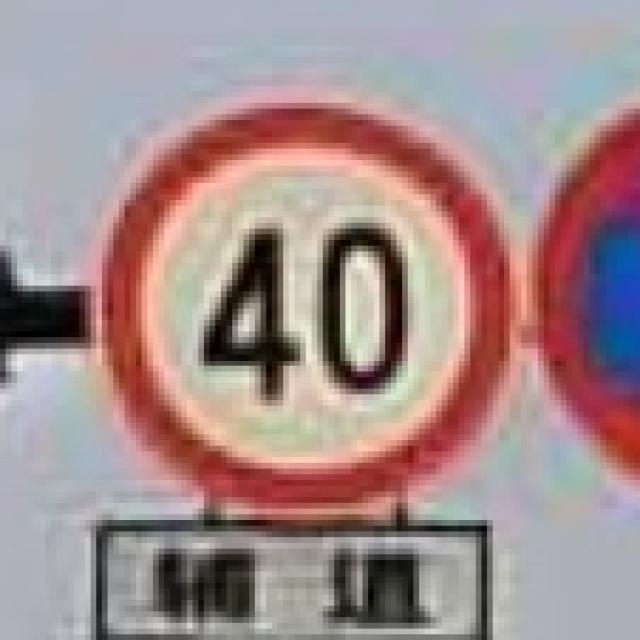Speed Limit -40-: (193, 218, 416, 406)
